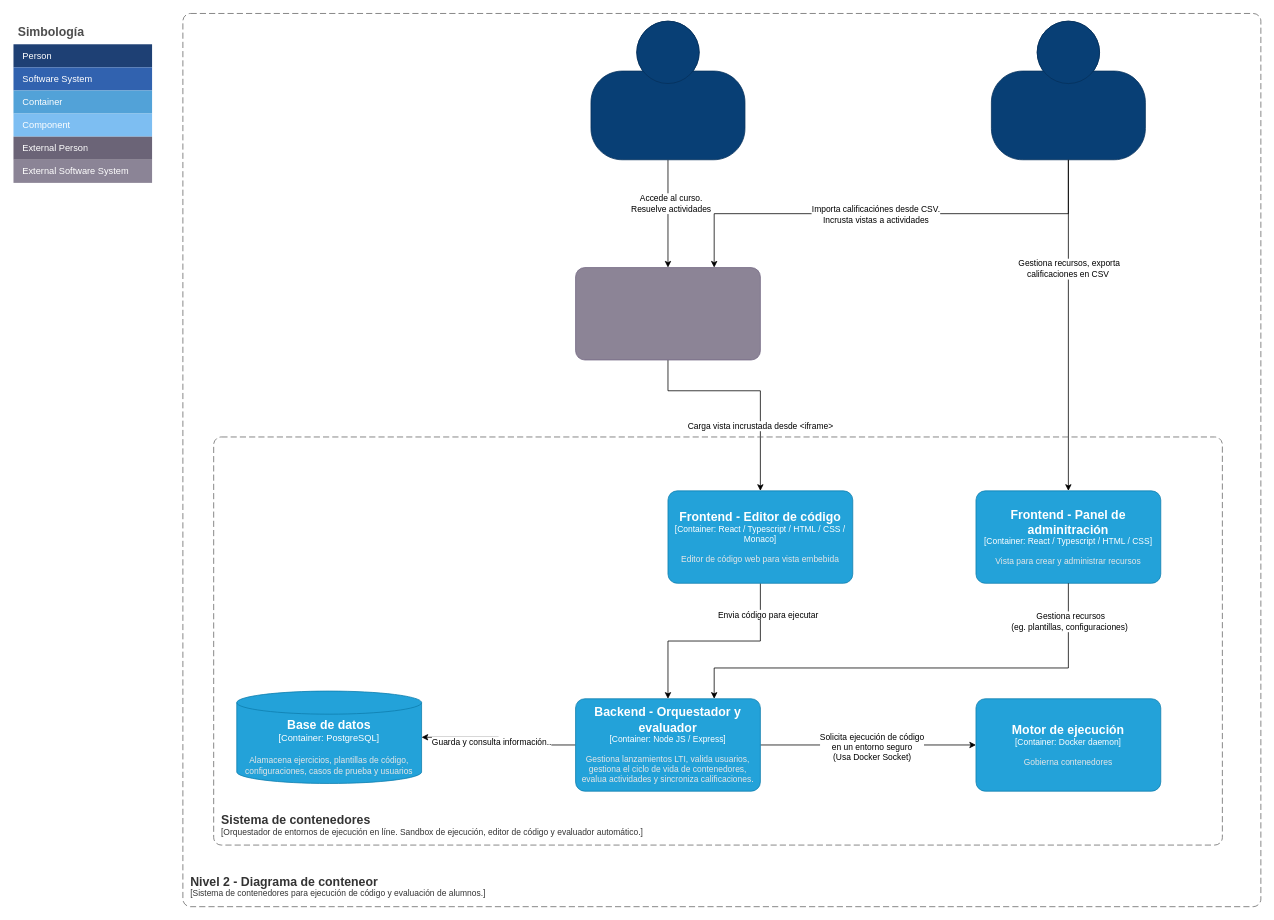
The diagram is 1274 pixels wide and 920 high, and some of its shapes have lost their labels. Here are the shapes that lost their labels. From the top down, the box of each, then its label:
(590, 20, 745, 160): Estudiante [Person] Aprende programando y resuelve ejercicios en UADY Virtual.
(991, 20, 1145, 160): Maestro [Person] Diseña actividades y supervisa el progreso académico.
(575, 267, 760, 360): UADY Virtual (Moodle) [Software System] Plataforma de aprendizaje (LMS)
